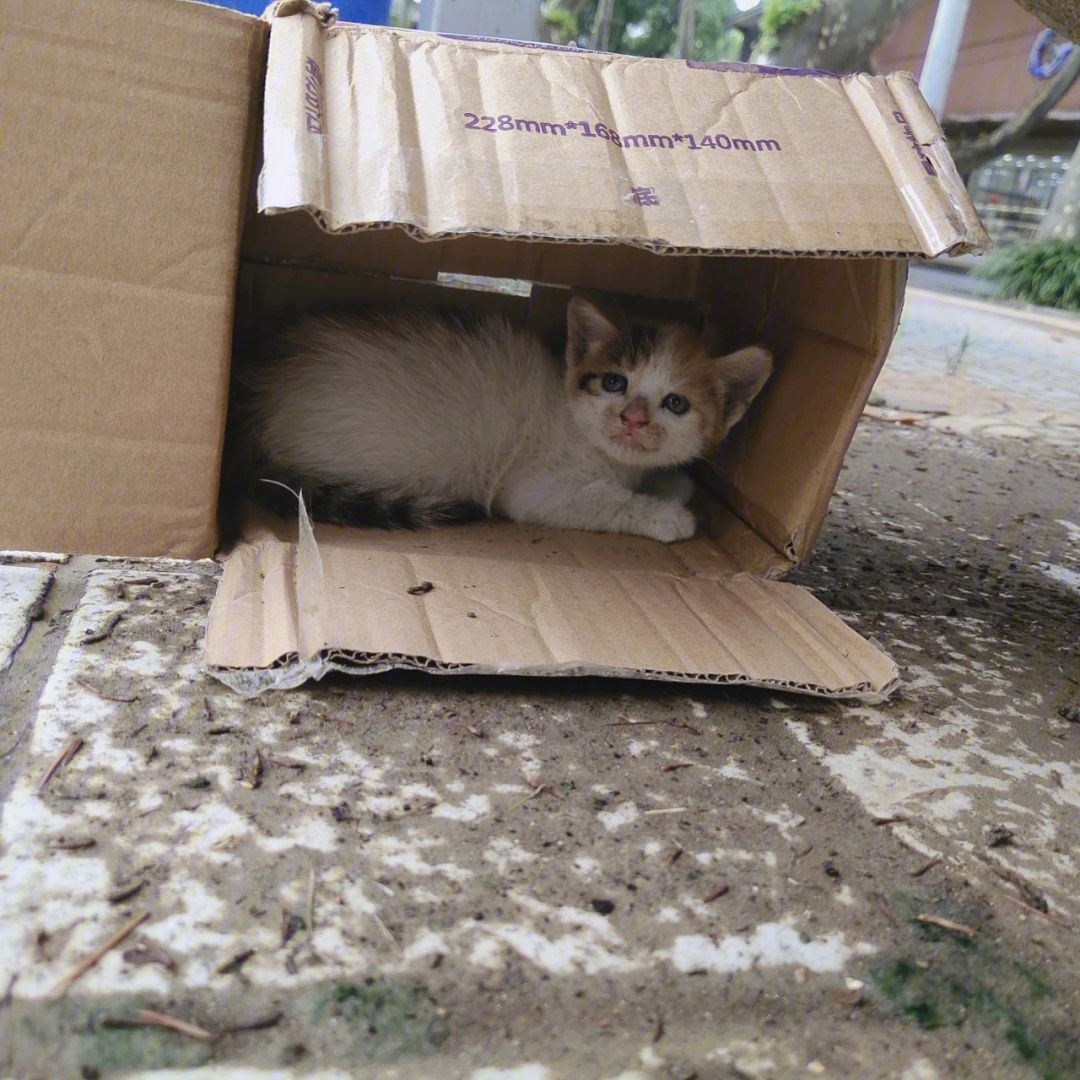cat: (241, 295, 775, 543)
